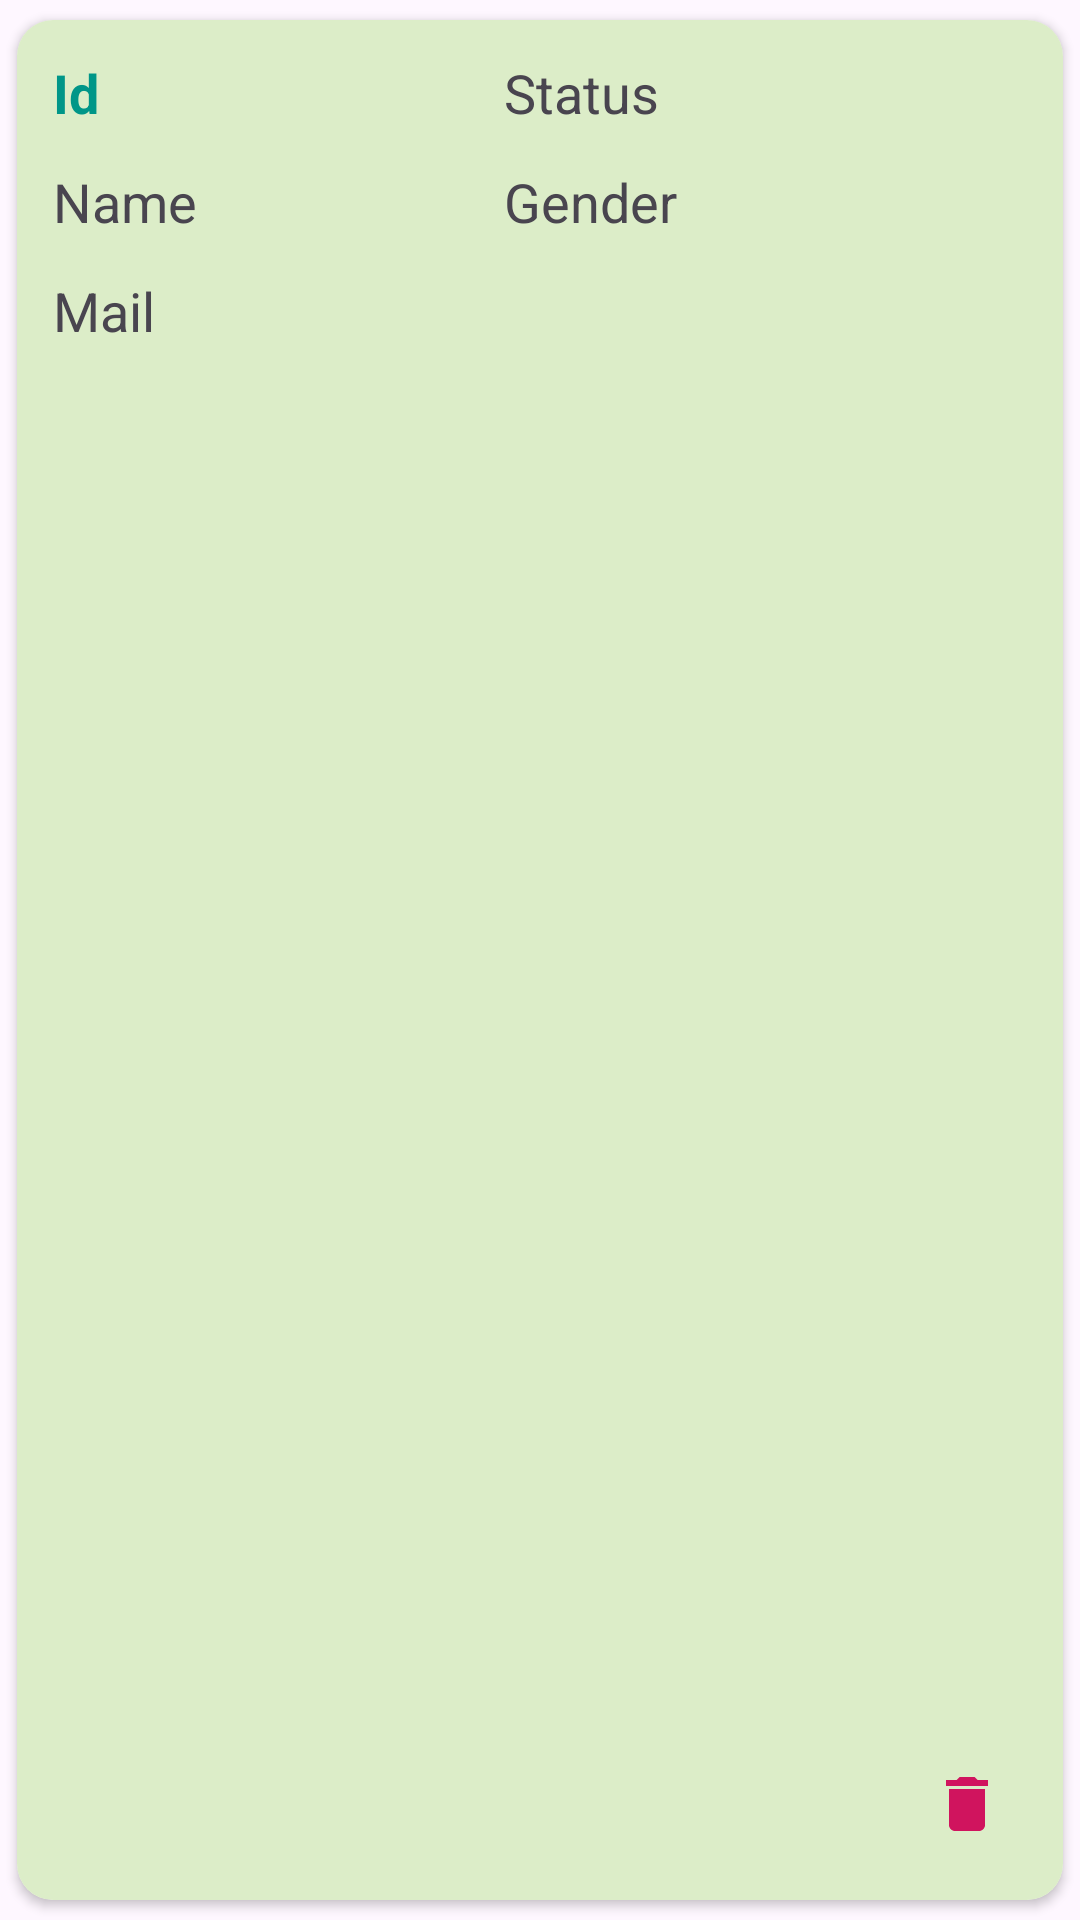

Named icons in this screenshot (1080 × 1920) and their centers, [x,y]:
delete: [967,1804]
